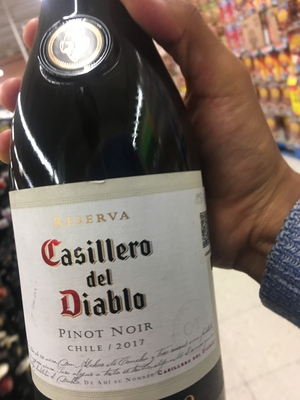casillero del diablo pinot noir: (8, 37, 221, 400)
